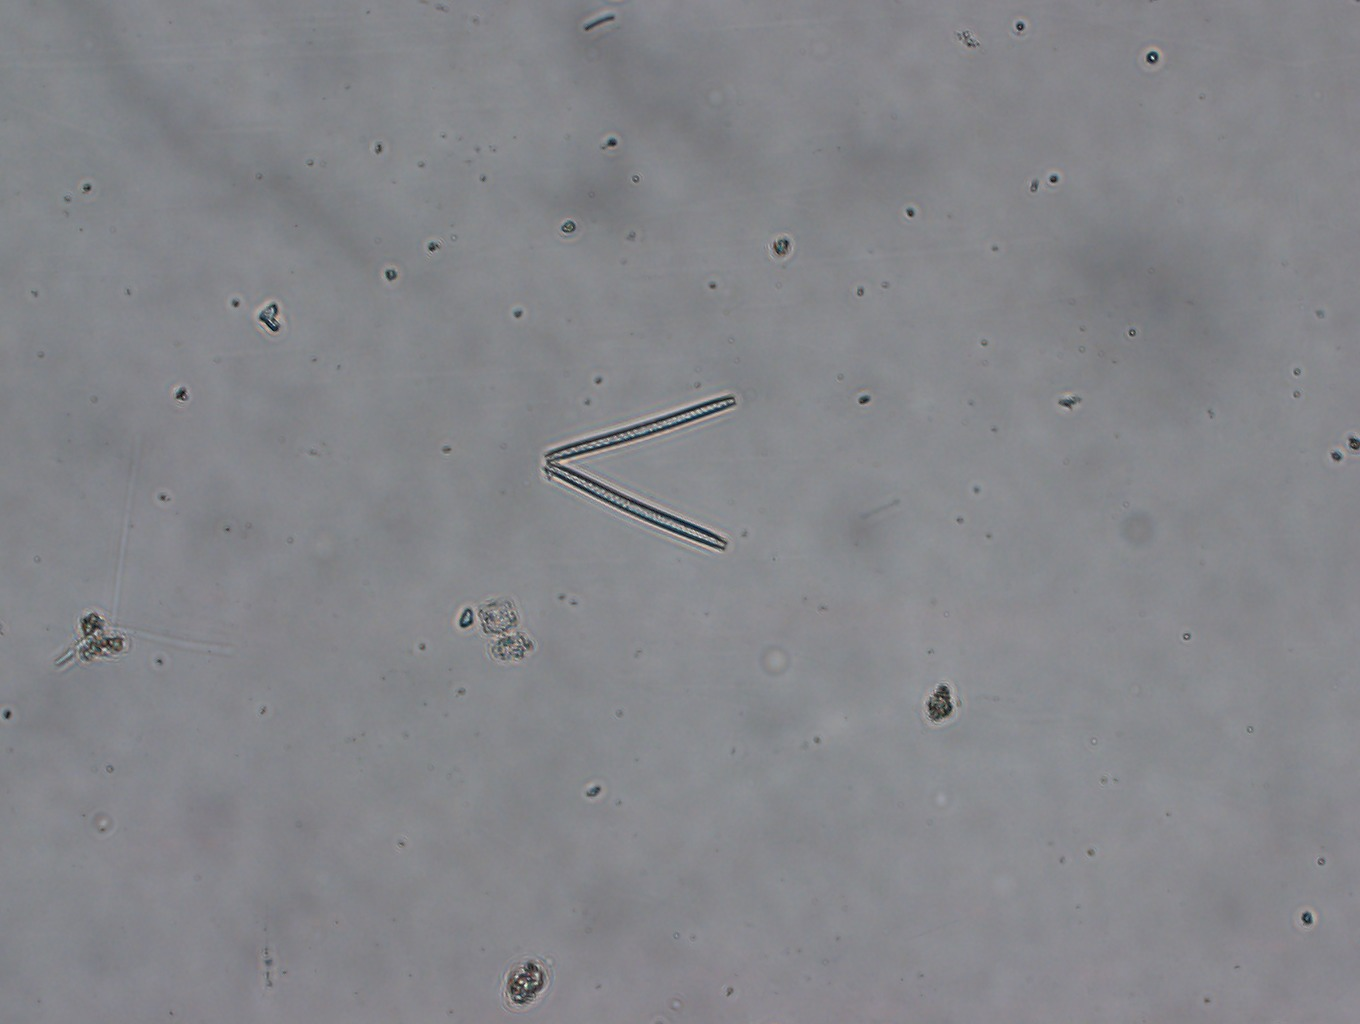thalassionema frauenfeldii: (542, 392, 738, 552)
